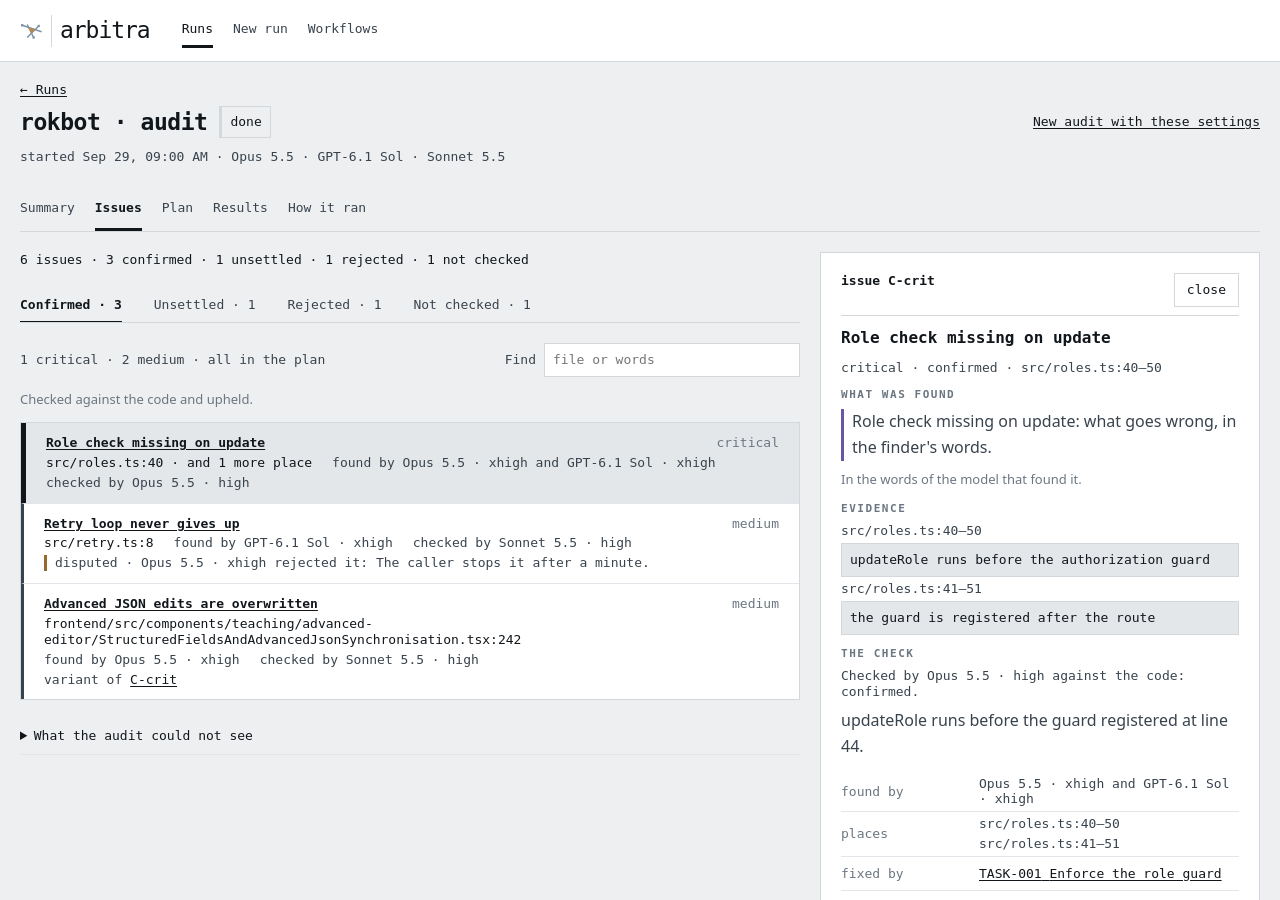
it: the Issues tab › opens an issue one click down: what was disputed, the finder's words, the evidence, who checked it and why, and the task that fixes it
Check: the heading "Role check missing on update" is shown, box [841,328,1111,347]
Check: the text "critical · confirmed · src/roles.ts:40–50" is shown, box [841,360,1162,375]
Click the button "Retry loop never gives up" at (142, 523), box [44,516,240,531]
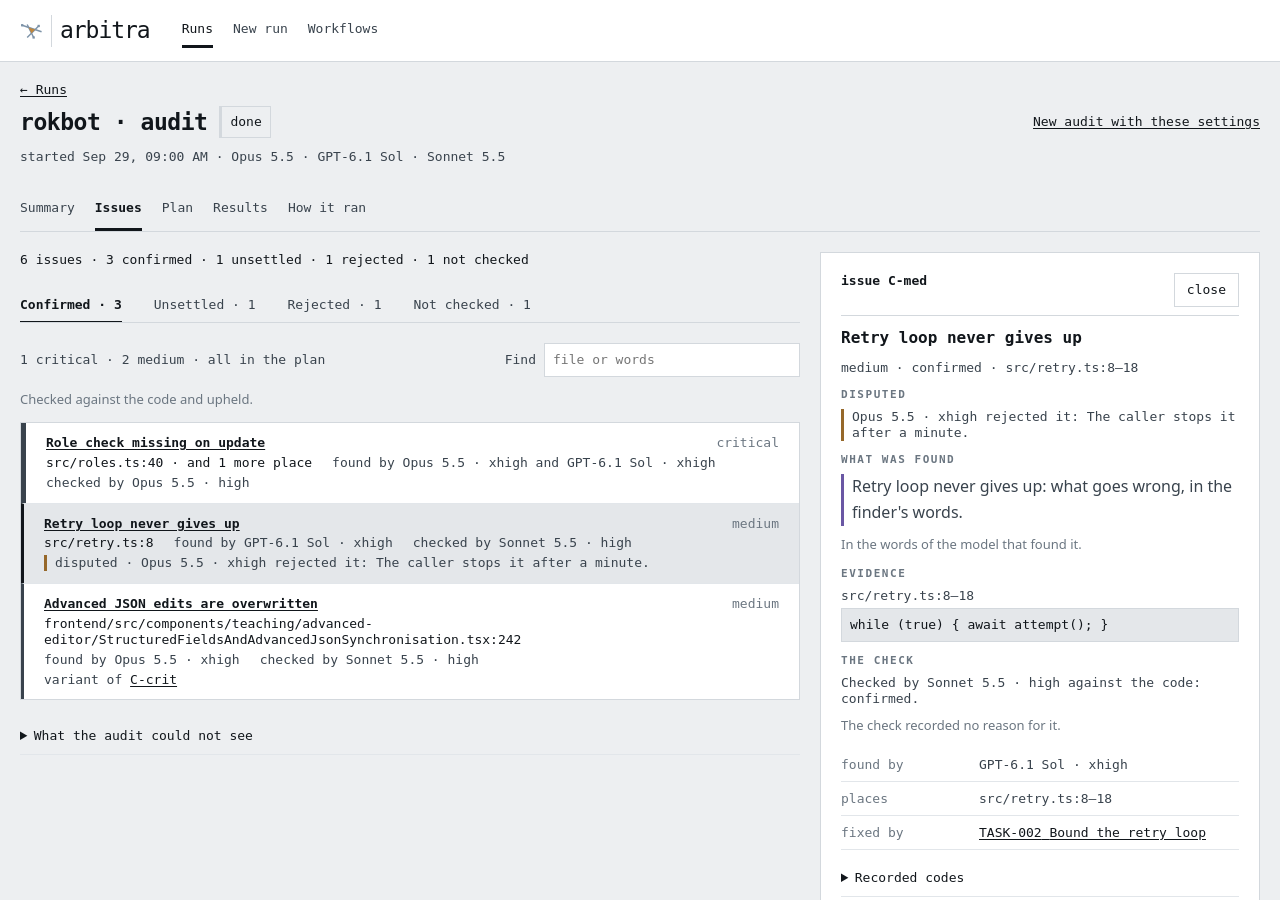
Click the tab "Rejected · 1" at (334, 305), box [288,288,381,322]
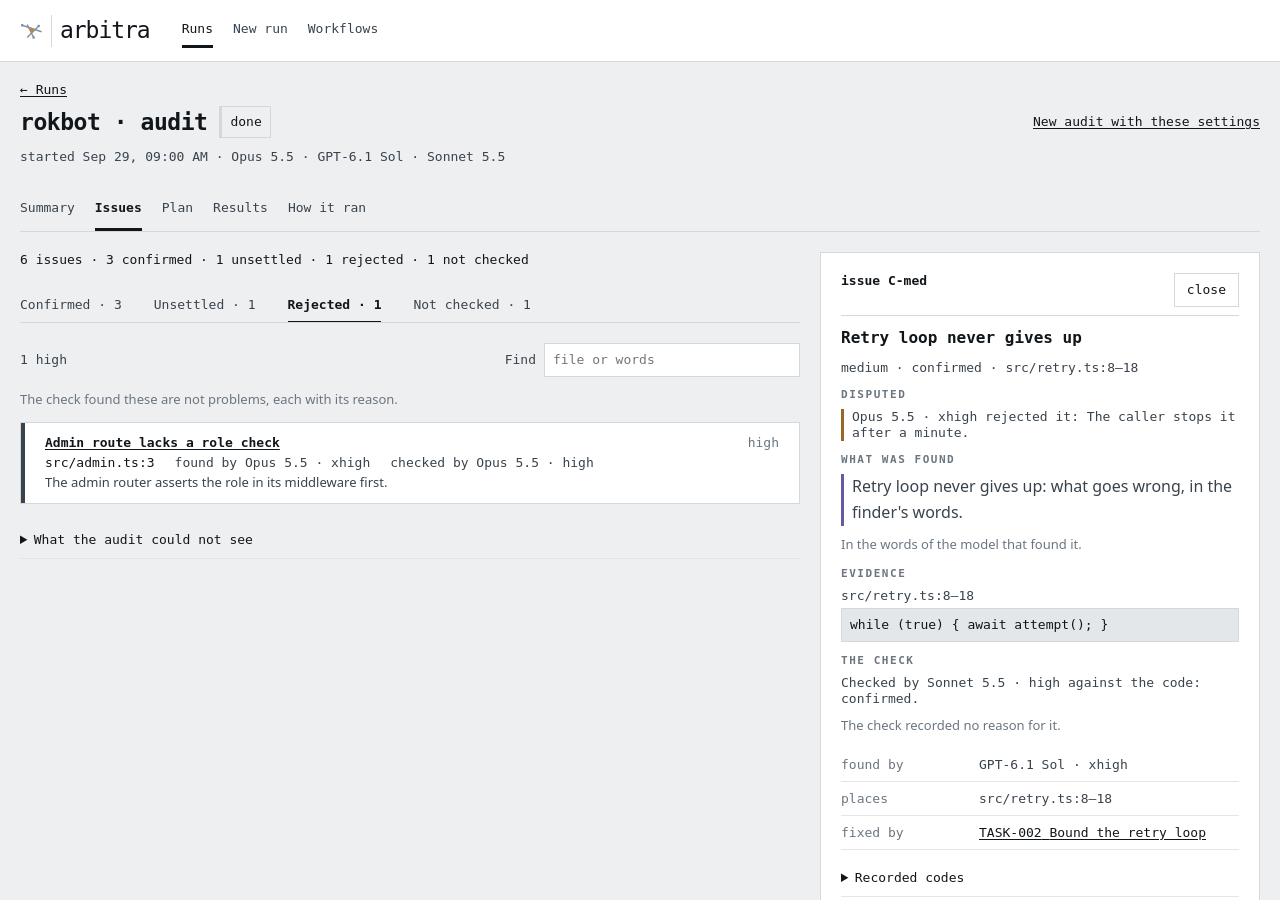
Click the button "Admin route lacks a role check" at (162, 443), box [45,435,280,451]
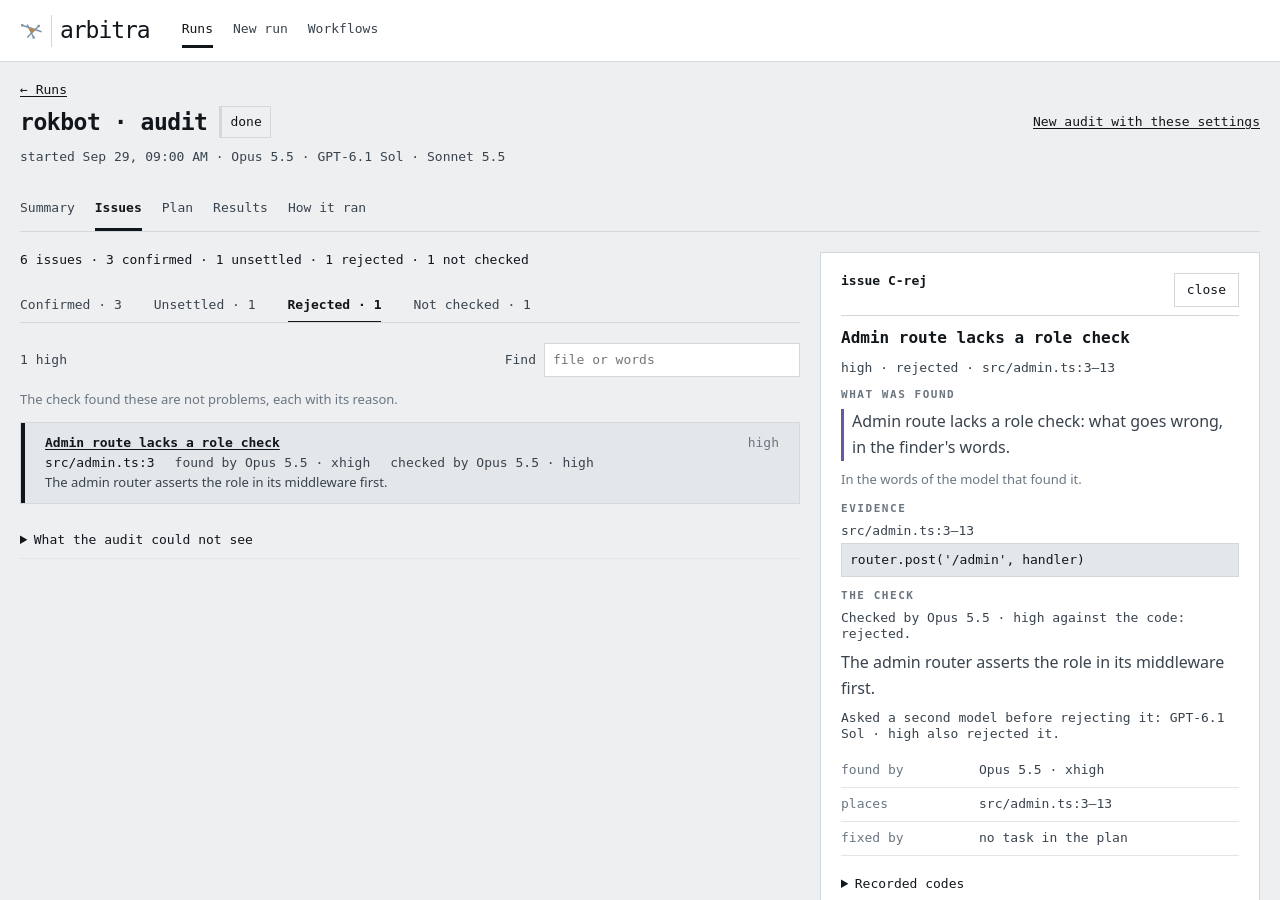
Check: the text "Asked a second model before rejecting it: GPT-6.1 Sol · high also rejected it." is shown, box [841,710,1239,742]
